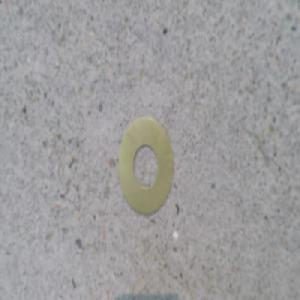Washer: (115, 97, 177, 204)
